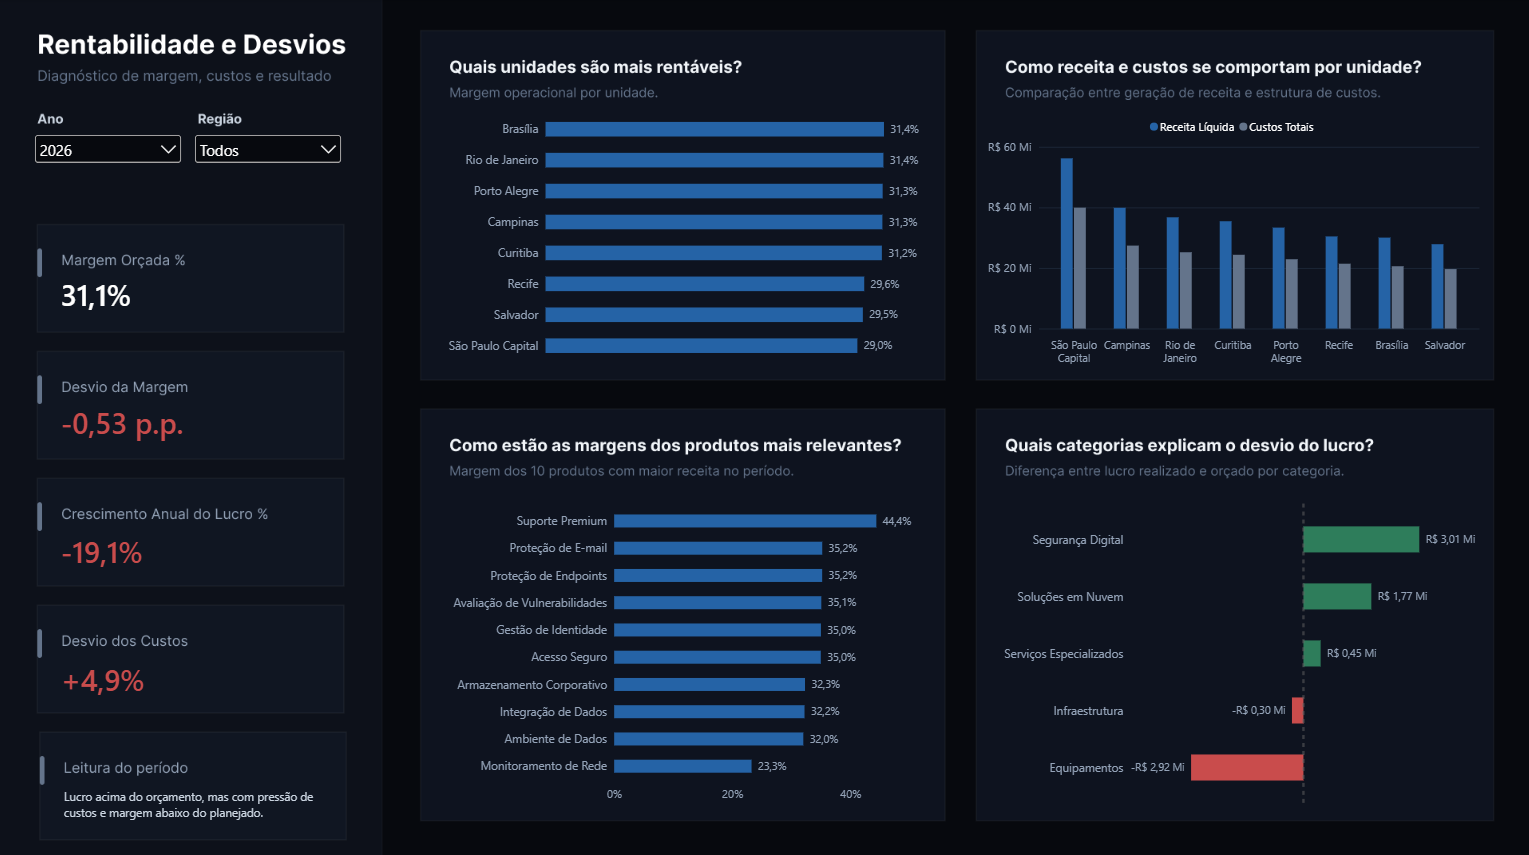

The page's visual inventory and layout, read from the dashboard file:
{"tool":"powerbi","page":{"name":"Rentabilidade e Desvios","canvas":[1920,1080],"ordinal":1},"visuals":[{"type":"slicer","fields":{"Values":["DimCalendario.Ano"]},"box":[40.4,165.6,192.6,51.2],"z":0},{"type":"slicer","fields":{"Values":["DimUnidade.Regiao"]},"box":[241,165.6,192.6,51.2],"z":1000},{"type":"cardVisual","fields":{"Data":["_Medidas.Margem Orçada %"]},"box":[61.4,288.2,371.7,164.3],"z":2000},{"type":"cardVisual","fields":{"Data":["_Medidas.Desvio Margem p.p."]},"box":[61.4,448.9,371.7,164.3],"z":3000},{"type":"cardVisual","fields":{"Data":["_Medidas.Crescimento Anual Lucro %"]},"box":[61.4,609.5,371.7,164.3],"z":4000},{"type":"cardVisual","fields":{"Data":["_Medidas.Desvio Custos %"]},"box":[61.4,770.2,371.7,164.3],"z":5000},{"type":"barChart","fields":{"Category":["DimUnidade.Unidade"],"Y":["_Medidas.Margem %"]},"box":[538.7,116.5,634,359.6],"z":6000},{"type":"clusteredColumnChart","fields":{"Category":["DimUnidade.Unidade"],"Y":["_Medidas.Receita Líquida","_Medidas.Custos Totais"]},"box":[1223.3,130,647.8,346.7],"z":7000},{"type":"barChart","fields":{"Category":["DimProduto.Produto"],"Y":["_Medidas.Margem %"]},"box":[538.9,610,634.4,416.7],"z":7001},{"type":"barChart","fields":{"Category":["DimCategoria.Categoria"],"Y":["_Medidas.Desvio Lucro"]},"box":[1231.1,610,634.4,416.7],"z":7002},{"type":"cardVisual","fields":{"Data":["_Medidas.Leitura do Período Resumida"]},"box":[65,964.7,372.1,89],"z":7003}]}

Visuals, with their boxes in screenshot pixels (x1, y1, x2, y2), scaled from the page's 1920x1080 canvas onto the 1529x855 screenshot:
slicer - DimCalendario.Ano: crop(32, 131, 186, 172)
slicer - DimUnidade.Regiao: crop(192, 131, 345, 172)
cardVisual - _Medidas.Margem Orçada %: crop(49, 228, 345, 358)
cardVisual - _Medidas.Desvio Margem p.p.: crop(49, 355, 345, 485)
cardVisual - _Medidas.Crescimento Anual Lucro %: crop(49, 483, 345, 613)
cardVisual - _Medidas.Desvio Custos %: crop(49, 610, 345, 740)
barChart - DimUnidade.Unidade x _Medidas.Margem %: crop(429, 92, 934, 377)
clusteredColumnChart - DimUnidade.Unidade x _Medidas.Receita Líquida: crop(974, 103, 1490, 377)
barChart - DimProduto.Produto x _Medidas.Margem %: crop(429, 483, 934, 813)
barChart - DimCategoria.Categoria x _Medidas.Desvio Lucro: crop(980, 483, 1486, 813)
cardVisual - _Medidas.Leitura do Período Resumida: crop(52, 764, 348, 834)
